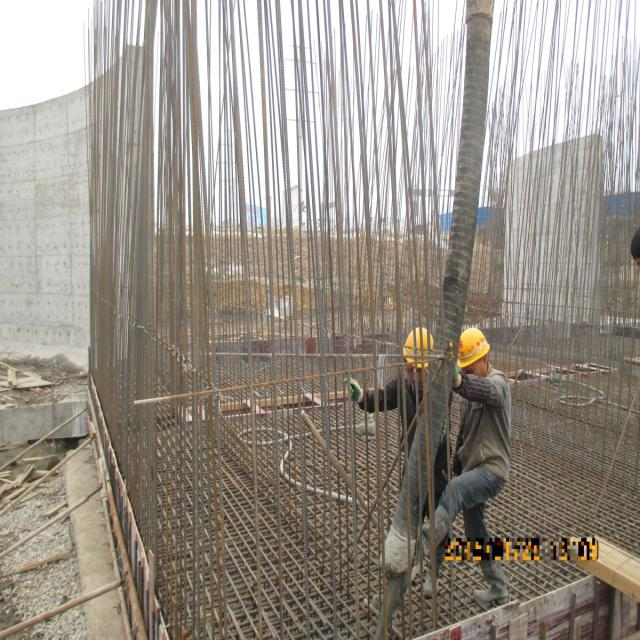truck: (379, 0, 494, 575)
